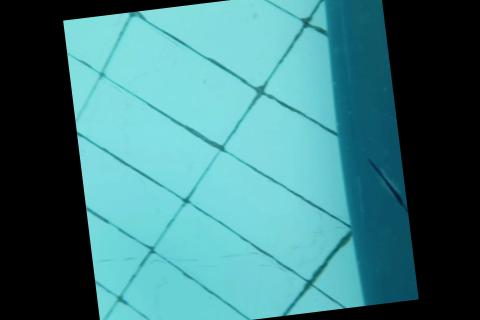keretakan: (363, 156, 408, 220)
